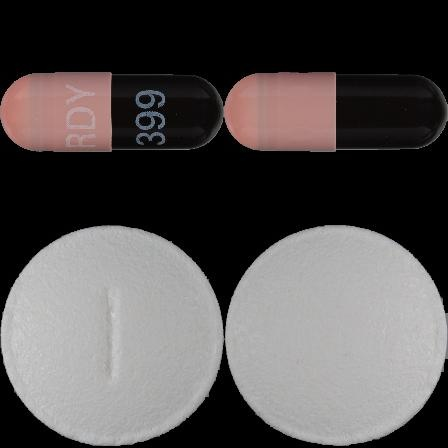68788-9281: (0, 0, 224, 224)
